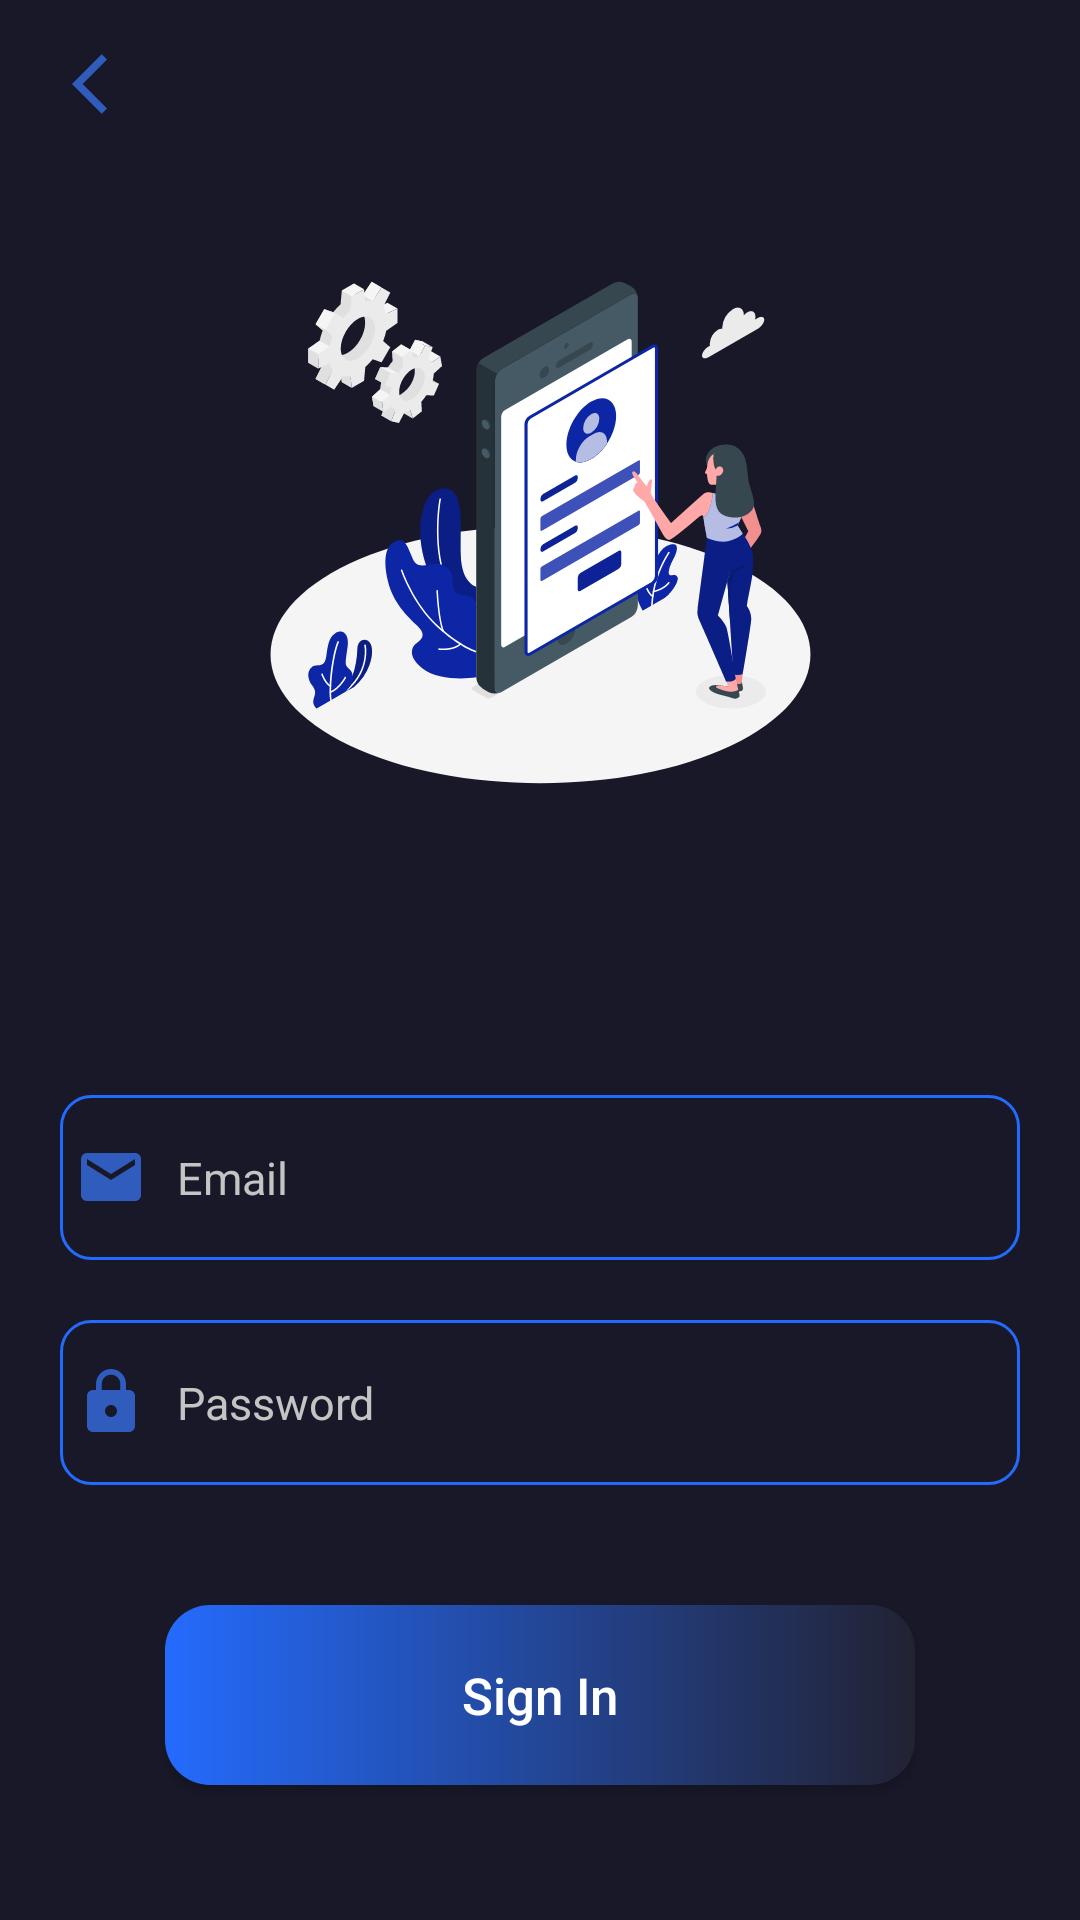

Point at icon controls on the screen. Image size 1080px×1920px, points as point (x, y).
back: point (89, 84)
